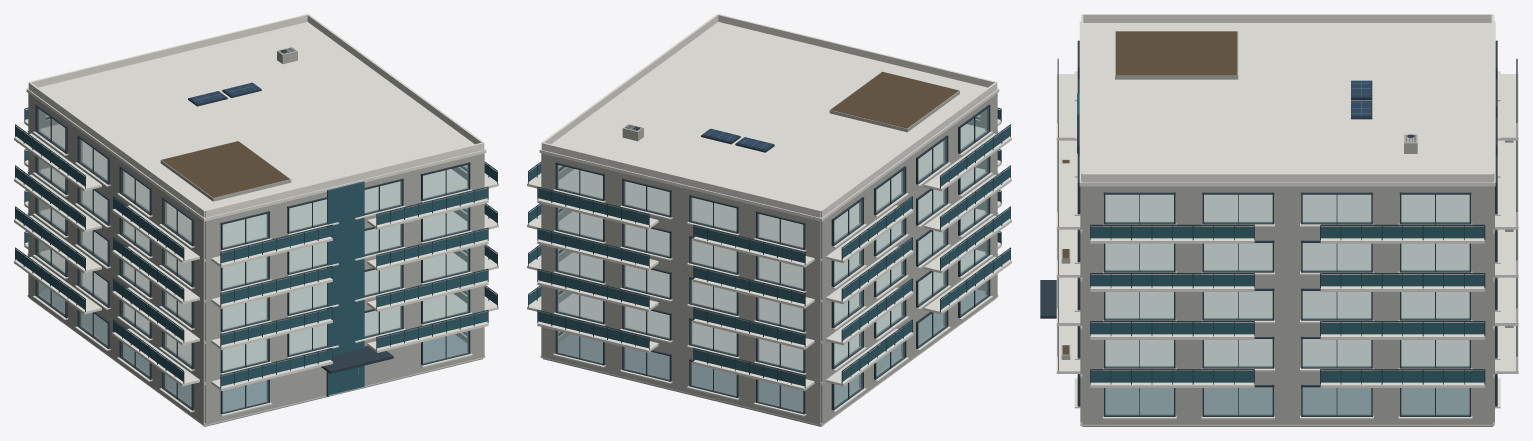
The model's file is Apartment_2.fbx.
3 renders of one model, left to right at view 1: azimuth 30°, elevation 25°; view 2: azimuth 150°, elevation 25°; view 3: azimuth 270°, elevation 25°, orthographic. The views are drawn at different scales.
Parts seen in each view (by area): view 1: Apartment_2.018; view 2: Apartment_2.018; view 3: Apartment_2.018.
Boxes of the visible parts, <box> form: Apartment_2.018: <box>14,14,498,426</box>; Apartment_2.018: <box>527,14,1011,426</box>; Apartment_2.018: <box>1040,14,1518,426</box>.
Bounding box in the file's own units: 25 × 16.57 × 27.95.
